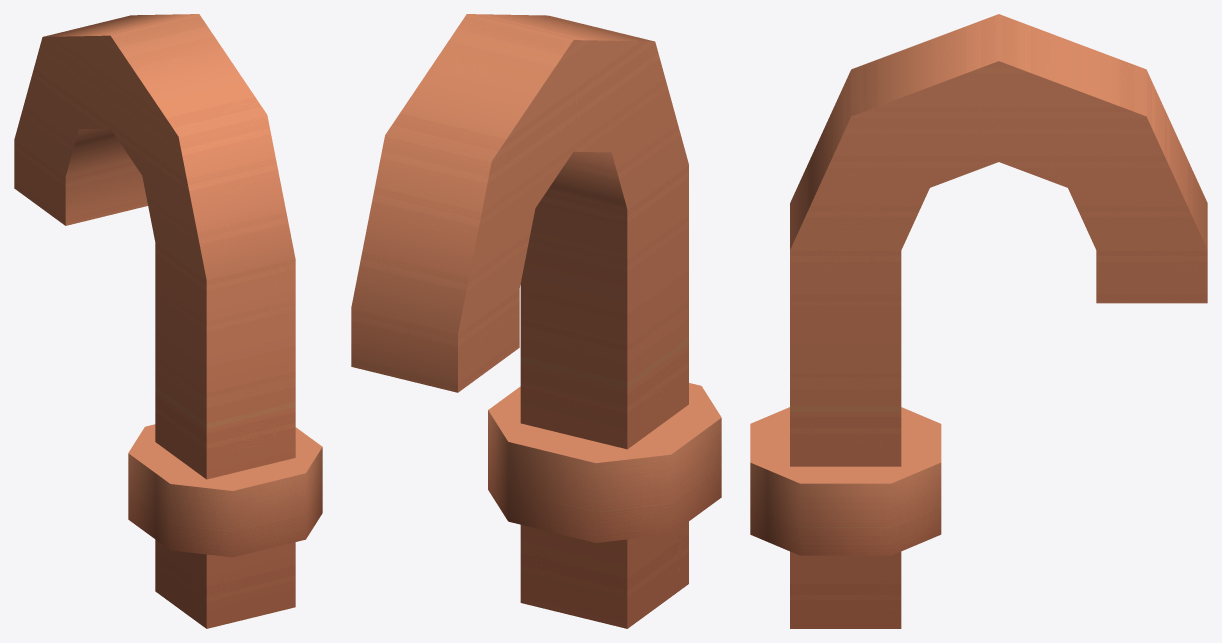
Rendered from aid-cane.glb.
3 renders of one model, left to right at view 1: azimuth 30°, elevation 25°; view 2: azimuth 150°, elevation 25°; view 3: azimuth 270°, elevation 25°, orthographic. The views are drawn at different scales.
Visible parts, largest first — view 1: aid-cane; view 2: aid-cane; view 3: aid-cane.
Boxes of the visible parts, x1=… form: aid-cane: x1=14, y1=14, x2=322, y2=628; aid-cane: x1=351, y1=14, x2=721, y2=628; aid-cane: x1=750, y1=14, x2=1207, y2=628.
Size of the model in its own units: 0.096 by 0.315 by 0.23.
1 material, 1 textured.
